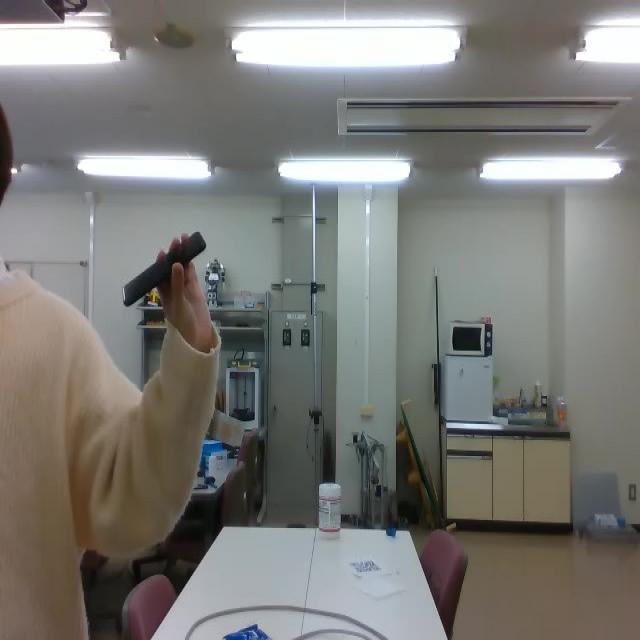Phone: (120, 229, 208, 308)
